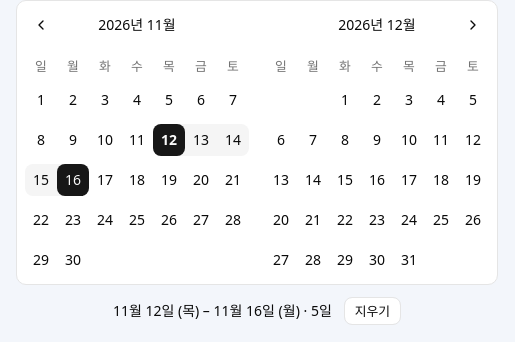
Test: range: the first click starts a range and the second ends it
The width and height of the screenshot is (515, 342).
Click the button named "11월 20일": {"x": 201, "y": 180} [185,164,217,196]
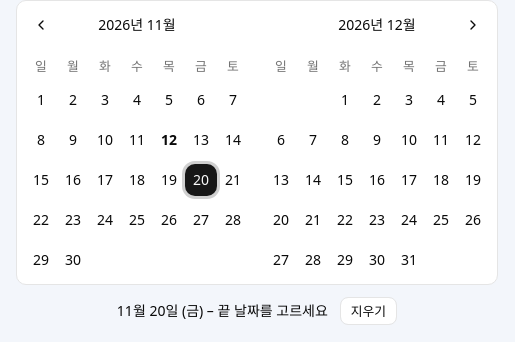
Check: the message reads "11월 20일 (금) – 끝 날짜를 고르세요", box [117,301,328,320]
Click the button named "11월 24일": {"x": 105, "y": 220} [89,204,121,236]
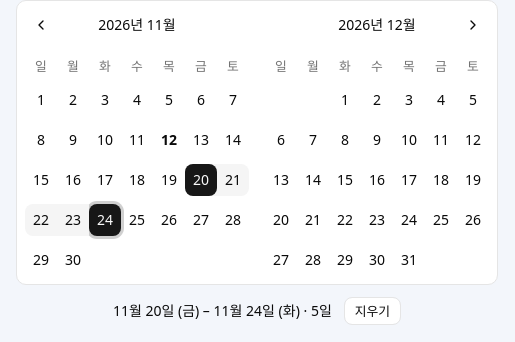
Check: the message reads "11월 20일 (금) – 11월 24일 (화) · 5일", box [113,301,332,320]
Click the button "지우기": {"x": 372, "y": 311} [344,297,401,325]
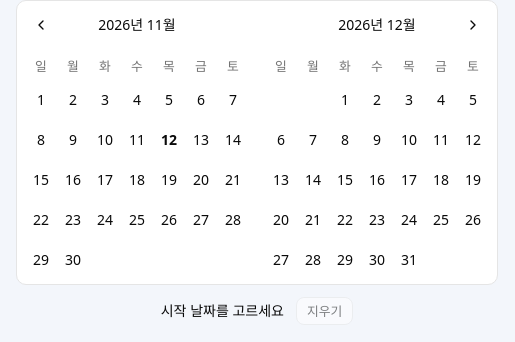
Check: the message reads "시작 날짜를 고르세요", box [161,301,284,320]
